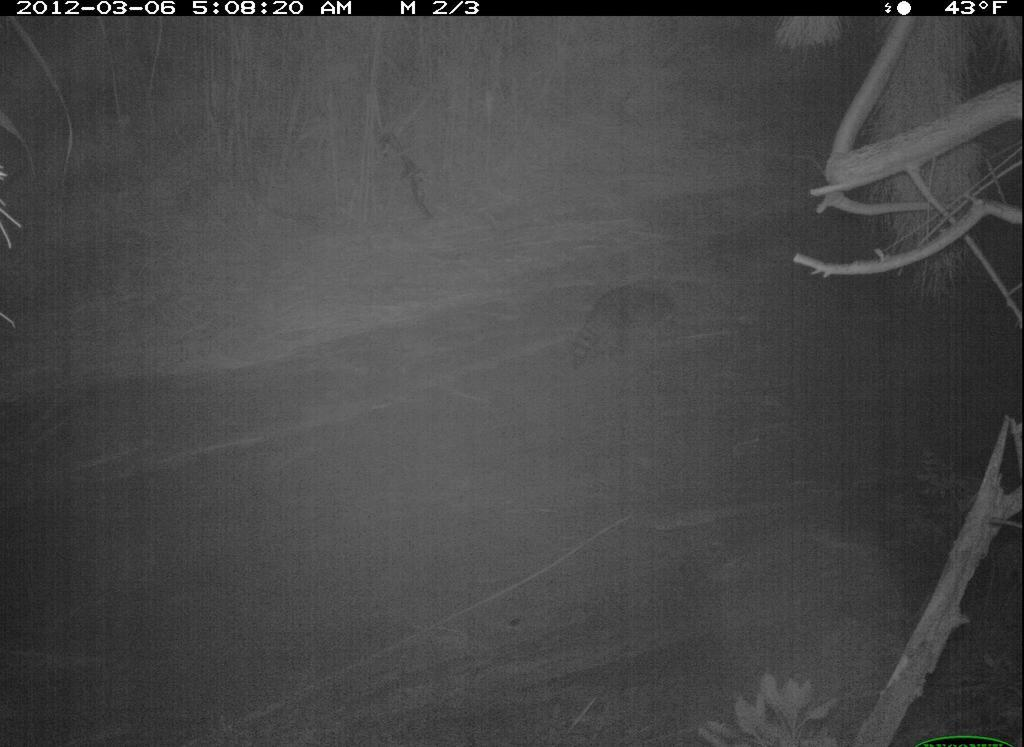raccoon: (562, 272, 689, 383)
